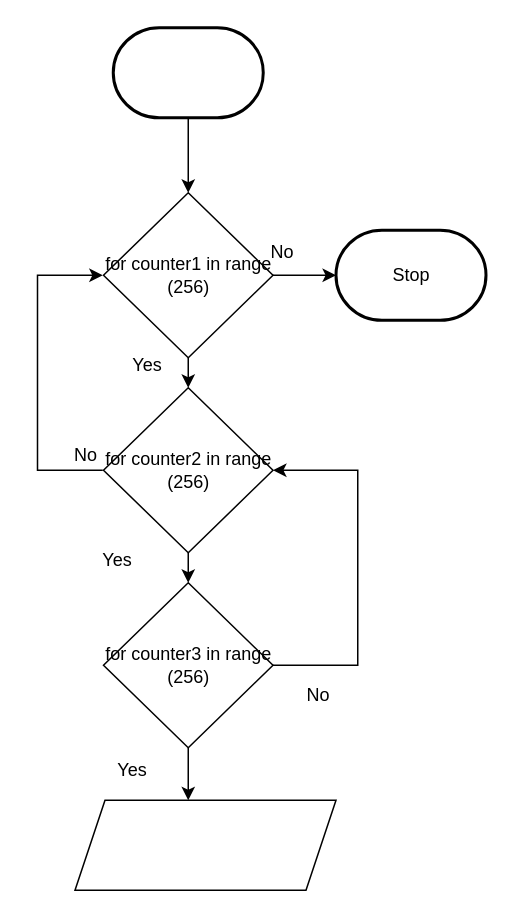
Some shapes in this 513 by 917 pixel diagram are drawn without their labels. The centre of each missing label's shape, as x and y in pixels:
print("RGB({0}, {1}, {2}"): point 205,844
Start: point 187,72
